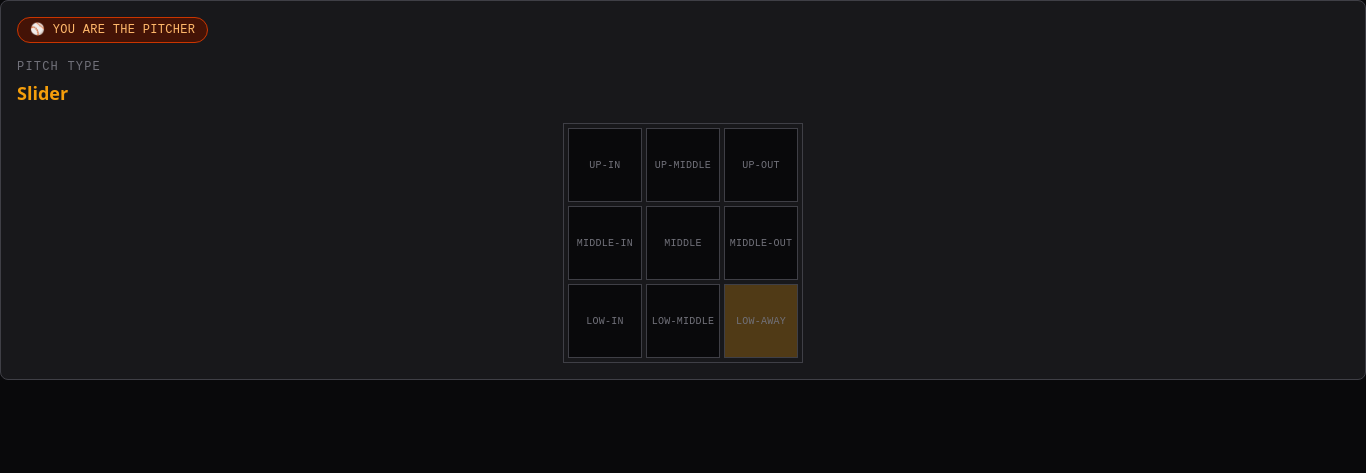
Test: PitcherArcade — targeting grid › disables every zone cell once a selection has been made
What coordinates should you click on to do the following:
click the cell with test id "zone-middle"
I would click on:
 (683, 243)
Its box is [646, 206, 720, 280].
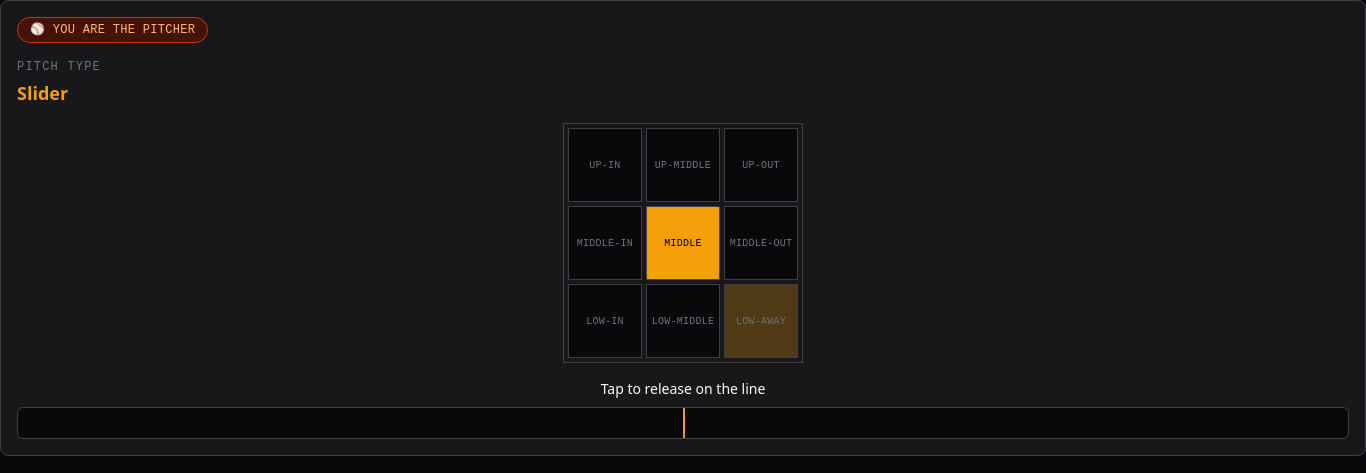
Expected: the cell with test id "zone-up-in" is disabled, [568, 128, 642, 202]
Expected: the cell with test id "zone-middle" is disabled, [646, 206, 720, 280]
